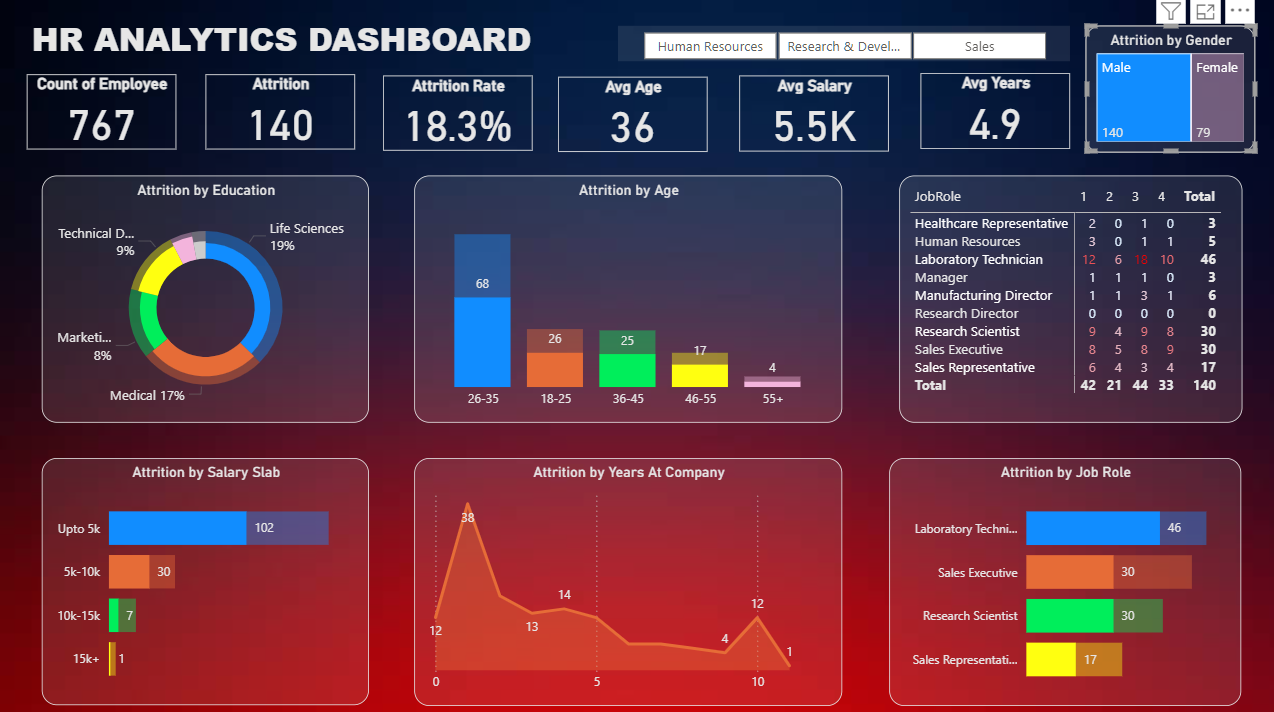

The dashboard page shown, as its layout file describes it:
{"tool":"powerbi","page":{"name":"Page 1","canvas":[1280,720],"ordinal":0},"visuals":[{"type":"card","title":"Count of Employee","fields":{"Values":["CountNonNull(HR_Analytics.EmpID)"]},"box":[29.3,75.7,149.6,75.5],"z":0},{"type":"card","title":"Attrition","fields":{"Values":["Sum(HR_Analytics.AttritionCount)"]},"box":[207.7,75.7,149.6,75.5],"z":1000},{"type":"card","title":"Attrition Rate","fields":{"Values":["HR_Analytics.AttritionRate"]},"box":[384.7,77.1,149.6,75.5],"z":2000},{"type":"card","title":"Avg Age","fields":{"Values":["Avg(HR_Analytics.Age)"]},"box":[560.4,78.4,149.6,75.5],"z":3000},{"type":"card","title":"Avg Salary","fields":{"Values":["Avg(HR_Analytics.MonthlyIncome)"]},"box":[741.8,77.6,149.6,76],"z":4000},{"type":"card","title":"Avg Years","fields":{"Values":["Avg(HR_Analytics.YearsAtCompany)"]},"box":[922.8,75.2,149.6,76],"z":5000},{"type":"donutChart","title":"Attrition by Education","fields":{"Category":["HR_Analytics.EducationField"],"Y":["Sum(HR_Analytics.AttritionCount)"]},"box":[43.6,177.5,327.3,247.3],"z":6000},{"type":"columnChart","title":"Attrition by Age","fields":{"Category":["HR_Analytics.AgeGroup"],"Y":["Sum(HR_Analytics.AttritionCount)"]},"box":[415.8,177.7,428,247.3],"z":6001},{"type":"pivotTable","title":"Job Satisfaction","fields":{"Rows":["HR_Analytics.JobRole"],"Columns":["HR_Analytics.JobSatisfaction"],"Values":["Sum(HR_Analytics.AttritionCount)"]},"box":[900.8,177.5,343.1,247.3],"z":6002},{"type":"barChart","title":"Attrition by Salary Slab","fields":{"Category":["HR_Analytics.SalarySlab"],"Y":["Sum(HR_Analytics.AttritionCount)"]},"box":[43.6,460,327.3,247.3],"z":6003},{"type":"barChart","title":"Attrition by Job Role","fields":{"Category":["HR_Analytics.JobRole"],"Y":["Sum(HR_Analytics.AttritionCount)"]},"box":[891.5,459.4,351.8,248],"z":6004},{"type":"areaChart","title":"Attrition by Years At Company","fields":{"Category":["HR_Analytics.YearsAtCompany"],"Y":["Sum(HR_Analytics.AttritionCount)"]},"box":[415.8,459.4,428.2,248],"z":6005},{"type":"treemap","title":"Attrition by Gender","fields":{"Group":["HR_Analytics.Gender"],"Values":["Sum(HR_Analytics.AttritionCount)"]},"box":[1087.5,27.9,169.7,127.3],"z":6006},{"type":"slicer","fields":{"Values":["HR_Analytics.Department"]},"box":[619.5,27.4,452.2,36.4],"z":6007},{"type":"textbox","box":[29.1,12.1,572.2,57],"z":6008}]}

Visuals, with their boxes in screenshot pixels (x1, y1, x2, y2), scaled from the page's 1280x720 canvas onto the 1274x712 screenshot:
"Count of Employee" card: left=29, top=75, right=178, bottom=150
"Attrition" card: left=207, top=75, right=356, bottom=150
"Attrition Rate" card: left=383, top=76, right=532, bottom=151
"Avg Age" card: left=558, top=78, right=707, bottom=152
"Avg Salary" card: left=738, top=77, right=887, bottom=152
"Avg Years" card: left=918, top=74, right=1067, bottom=150
"Attrition by Education" donutChart: left=43, top=176, right=369, bottom=420
"Attrition by Age" columnChart: left=414, top=176, right=840, bottom=420
"Job Satisfaction" pivotTable: left=897, top=176, right=1238, bottom=420
"Attrition by Salary Slab" barChart: left=43, top=455, right=369, bottom=699
"Attrition by Job Role" barChart: left=887, top=454, right=1237, bottom=700
"Attrition by Years At Company" areaChart: left=414, top=454, right=840, bottom=700
"Attrition by Gender" treemap: left=1082, top=28, right=1251, bottom=153
slicer - HR_Analytics.Department: left=617, top=27, right=1067, bottom=63
textbox: left=29, top=12, right=598, bottom=68
